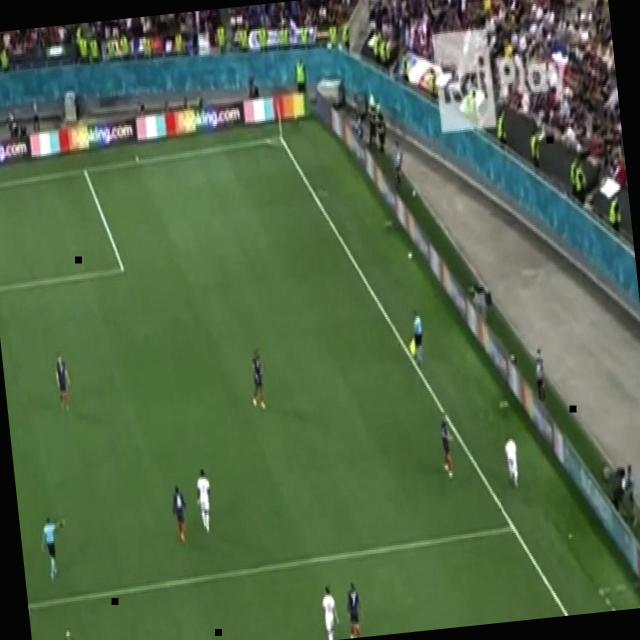ball: (407, 250, 414, 260), (412, 189, 418, 198)
player-white: (37, 513, 73, 584), (192, 467, 216, 537), (245, 345, 268, 414), (168, 480, 192, 546), (51, 352, 75, 414), (317, 583, 342, 640), (437, 411, 457, 481), (342, 579, 364, 639), (405, 309, 427, 368), (503, 434, 522, 490), (58, 627, 80, 640)
